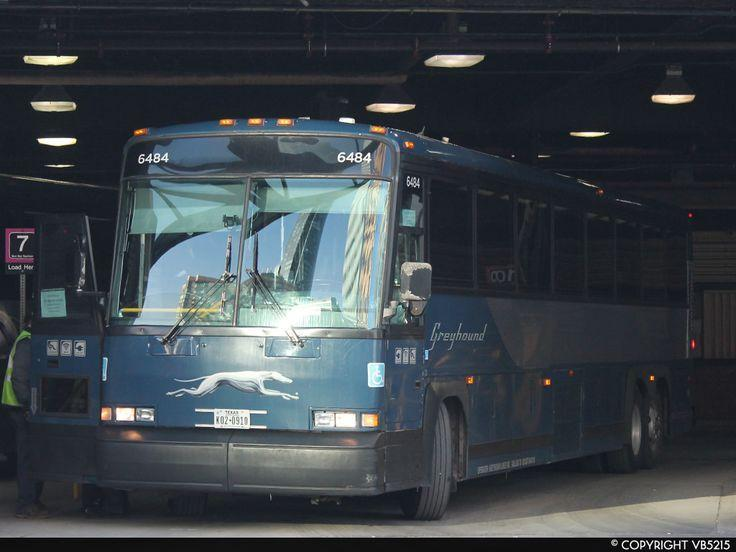Bus: (77, 118, 693, 522)
